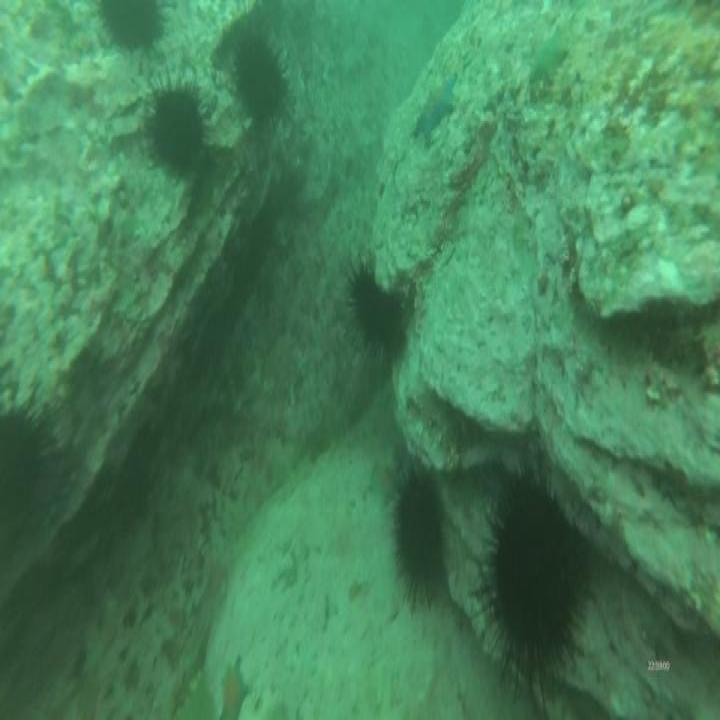echinus: (491, 491, 576, 663), (393, 475, 441, 592), (1, 416, 47, 530), (150, 85, 202, 176), (352, 268, 404, 354), (234, 43, 283, 119), (102, 4, 162, 50)
starfish: (414, 84, 452, 144), (530, 21, 568, 80), (220, 663, 247, 720)
